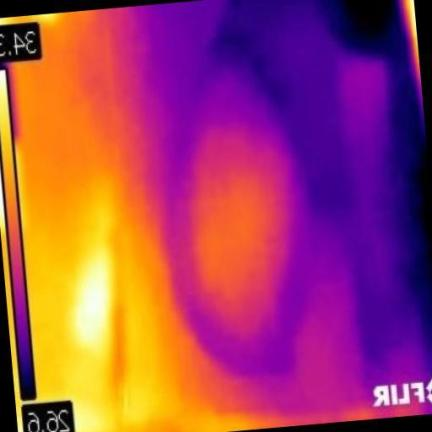mango: (168, 41, 319, 374)
